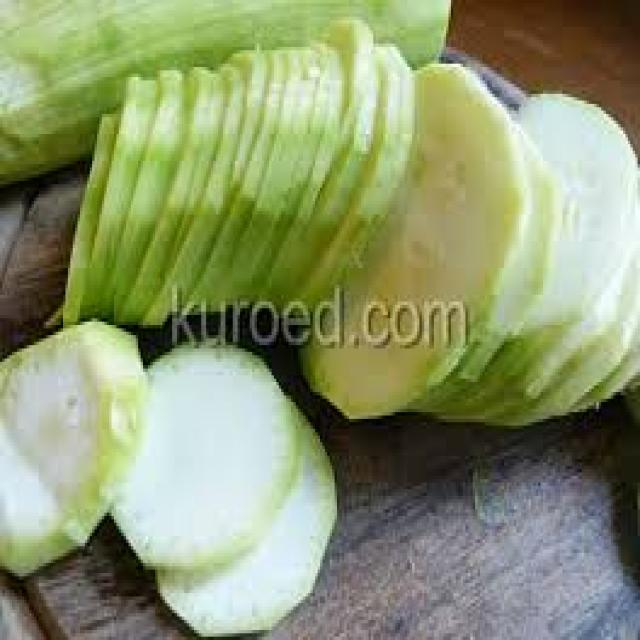vegetable marrow: (64, 26, 635, 430), (0, 0, 451, 181), (131, 325, 315, 640), (0, 310, 158, 590)
